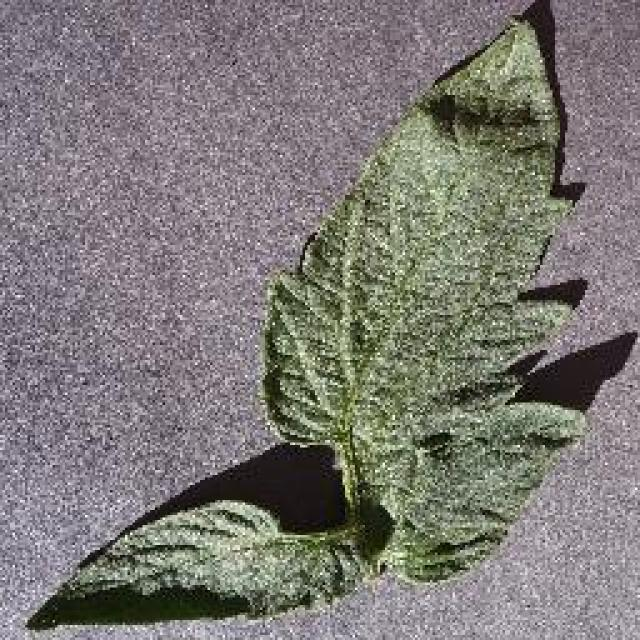Healthy: (13, 0, 625, 640)
